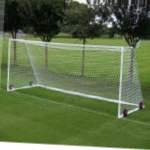goals: (6, 37, 146, 120)
